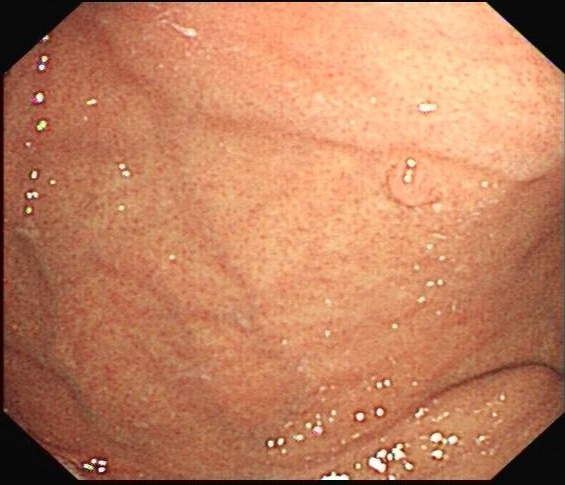Polyp: (382, 150, 443, 213)
